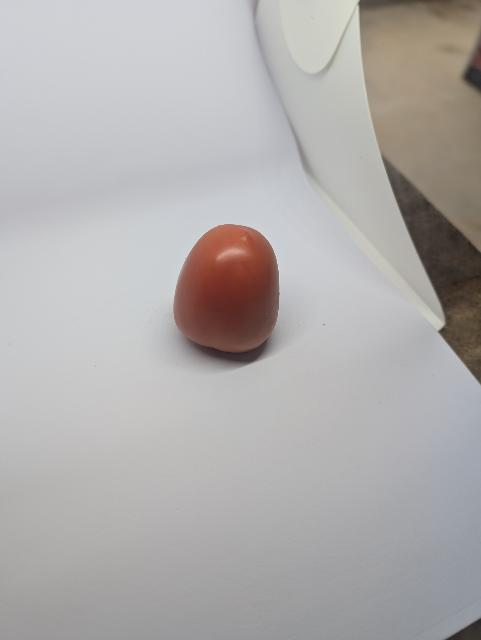red: (164, 215, 294, 379)
